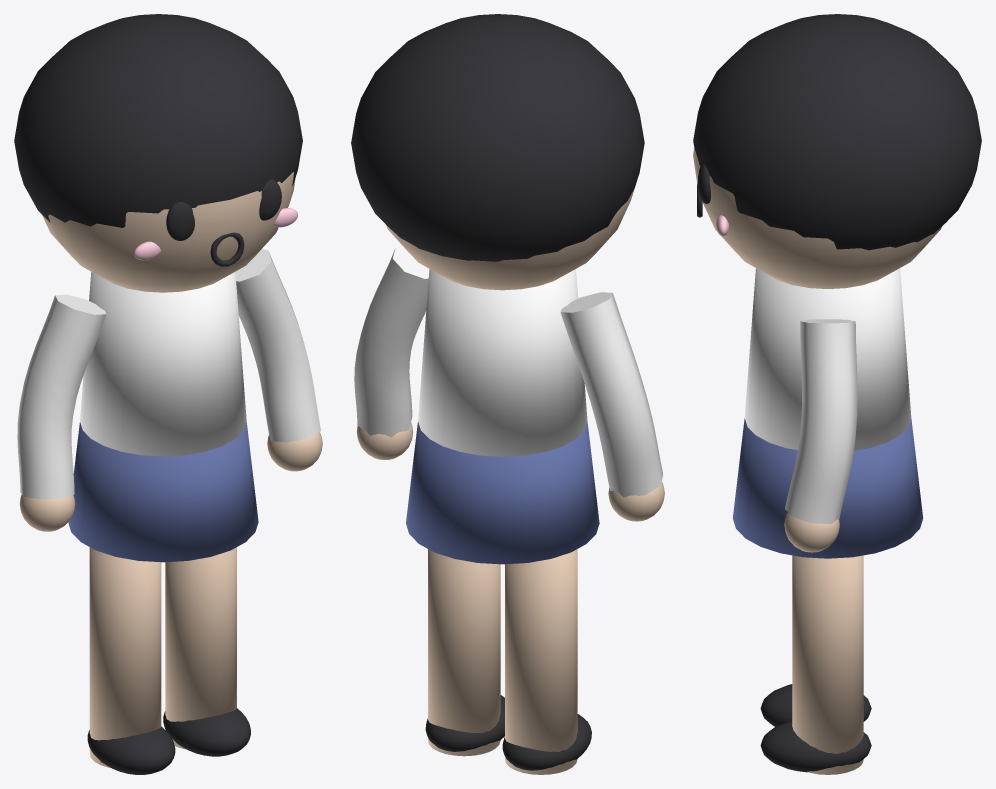
File: kid_boy.glb
3 renders of one model, left to right at view 1: azimuth 30°, elevation 25°; view 2: azimuth 150°, elevation 25°; view 3: azimuth 270°, elevation 25°, orthographic.
Parts seen in each view (by area): view 1: kid_hair, kid_torso, kid_bottom, kid_leg_l, kid_head, kid_leg_r, kid_arm_l, kid_arm_r, kid_shoe_r, kid_shoe_l, kid_hand_l, kid_hand_r (+3 smaller); view 2: kid_hair, kid_torso, kid_bottom, kid_leg_l, kid_leg_r, kid_arm_l, kid_arm_r, kid_head, kid_shoe_l, kid_shoe_r, kid_hand_l, kid_hand_r; view 3: kid_hair, kid_torso, kid_bottom, kid_leg_r, kid_arm_r, kid_head, kid_shoe_r, kid_hand_r, kid_shoe_l.
Part boxes in pixels (x1,y1,x2,y2): kid_hair: (14,14,302,227); kid_torso: (80,272,246,456); kid_bottom: (68,422,258,562); kid_leg_l: (89,547,161,767); kid_head: (42,172,295,292); kid_leg_r: (165,547,236,749); kid_arm_l: (17,294,106,499); kid_arm_r: (235,249,320,442); kid_shoe_r: (163,708,250,756); kid_shoe_l: (87,726,175,774); kid_hand_l: (19,494,75,531); kid_hand_r: (267,432,322,471); kid_hair: (351,14,644,261); kid_torso: (418,269,587,456); kid_bottom: (406,421,599,564); kid_leg_l: (505,549,577,774); kid_leg_r: (428,549,500,756); kid_arm_l: (560,292,662,497); kid_arm_r: (354,246,429,437); kid_head: (385,189,634,290); kid_shoe_l: (502,714,591,770); kid_shoe_r: (425,695,504,751); kid_hand_l: (608,482,664,521); kid_hand_r: (356,422,413,459); kid_hair: (693,14,981,250); kid_torso: (744,268,911,450); kid_bottom: (732,418,923,558); kid_leg_r: (792,555,863,774); kid_arm_r: (785,319,857,523); kid_head: (693,148,941,288); kid_shoe_r: (760,721,871,772); kid_hand_r: (784,512,839,552); kid_shoe_l: (760,684,871,726).
Bounding box in the file's own units: 0.516 × 1.2 × 0.4367.
